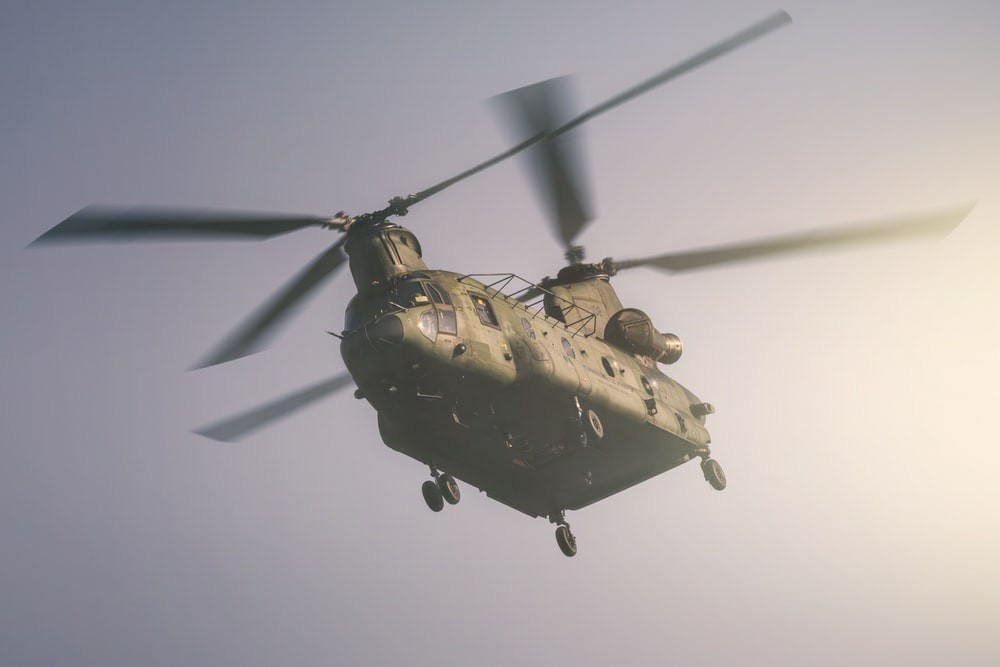chinook: (273, 166, 797, 556)
